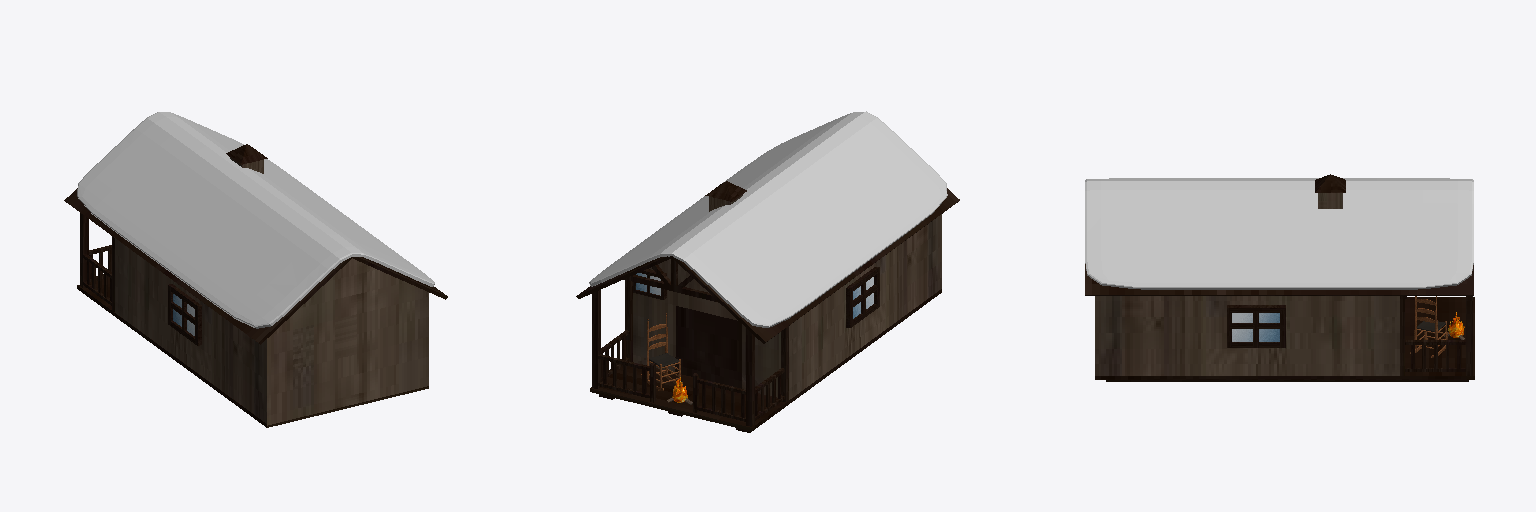
3 renders of one model, left to right at view 1: azimuth 30°, elevation 25°; view 2: azimuth 150°, elevation 25°; view 3: azimuth 270°, elevation 25°, orthographic.
Parts seen in each view (by area): view 1: Snow_covered_CottageOBJ.002, Snow_covered_CottageOBJ, Snow_covered_CottageOBJ.001; view 2: Snow_covered_CottageOBJ.002, Snow_covered_CottageOBJ, Snow_covered_CottageOBJ.001, Chair_A; view 3: Snow_covered_CottageOBJ.002, Snow_covered_CottageOBJ, Snow_covered_CottageOBJ.001, Plane.002, Chair_A.
Boxes of the visible parts, box(x1,y1,x2,y2) form: Snow_covered_CottageOBJ.002: box(77, 112, 434, 328); Snow_covered_CottageOBJ: box(66, 144, 447, 427); Snow_covered_CottageOBJ.001: box(64, 188, 446, 342); Snow_covered_CottageOBJ.002: box(589, 111, 947, 327); Snow_covered_CottageOBJ: box(576, 181, 957, 432); Snow_covered_CottageOBJ.001: box(577, 188, 959, 341); Chair_A: box(641, 313, 682, 390); Snow_covered_CottageOBJ.002: box(1085, 178, 1473, 289); Snow_covered_CottageOBJ: box(1085, 174, 1474, 381); Snow_covered_CottageOBJ.001: box(1085, 264, 1473, 294); Plane.002: box(1232, 313, 1279, 341); Chair_A: box(1410, 296, 1447, 357).
Bounding box in the file's own units: 65.76 × 59.31 × 117.
Materials: 10 (5 with a texture image).